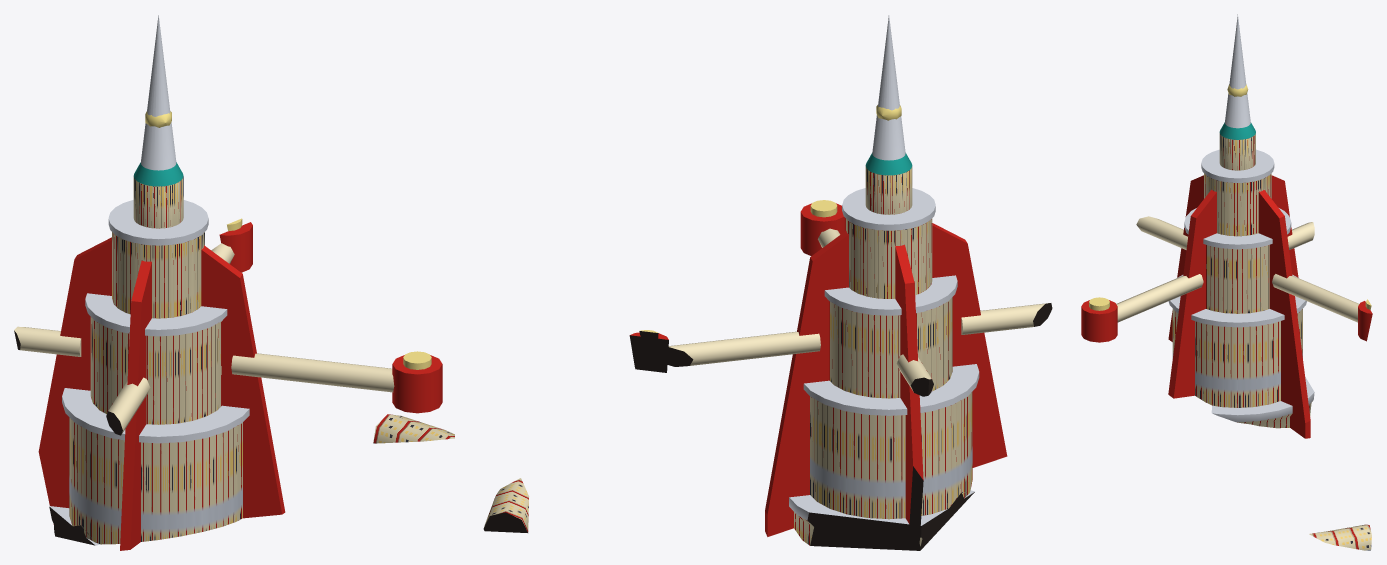
The model's file is guard_station_debris3.obj.
The picture shows the model from 3 angles, left to right: view 1: azimuth 30°, elevation 25°; view 2: azimuth 150°, elevation 25°; view 3: azimuth 270°, elevation 25°; orthographic projection. The views are drawn at different scales.
Parts seen in each view (by area): view 1: tower, buttress135, buttress315, arm, buttress225, cradle, ring, cradle_light; view 2: tower, buttress45, buttress225, arm, buttress315, cradle, ring; view 3: tower, buttress45, arm, buttress135, cradle, ring, buttress225, buttress315.
Boxes of the visible parts, box(x1,y1,x2,y2) form: tower: box(49, 15, 249, 545); buttress135: box(201, 245, 285, 518); buttress315: box(38, 237, 111, 524); arm: box(14, 243, 394, 435); buttress225: box(120, 260, 151, 550); cradle: box(219, 222, 442, 413); ring: box(373, 414, 454, 443); cradle_light: box(227, 218, 431, 369); tower: box(789, 15, 979, 550); buttress45: box(765, 231, 848, 536); buttress225: box(932, 223, 1007, 467); arm: box(665, 228, 1052, 396); buttress315: box(895, 245, 923, 542); cradle: box(629, 203, 845, 372); ring: box(483, 478, 529, 532); tower: box(1168, 14, 1314, 428); buttress45: box(1258, 190, 1310, 438); arm: box(1116, 216, 1359, 322); buttress135: box(1168, 189, 1216, 398); cradle: box(1081, 300, 1372, 342); ring: box(1309, 524, 1371, 550); buttress225: box(1168, 175, 1203, 341); buttress315: box(1271, 175, 1298, 277).
Size of the model in its own units: 149 by 176 by 112.
7 materials, 1 textured.
